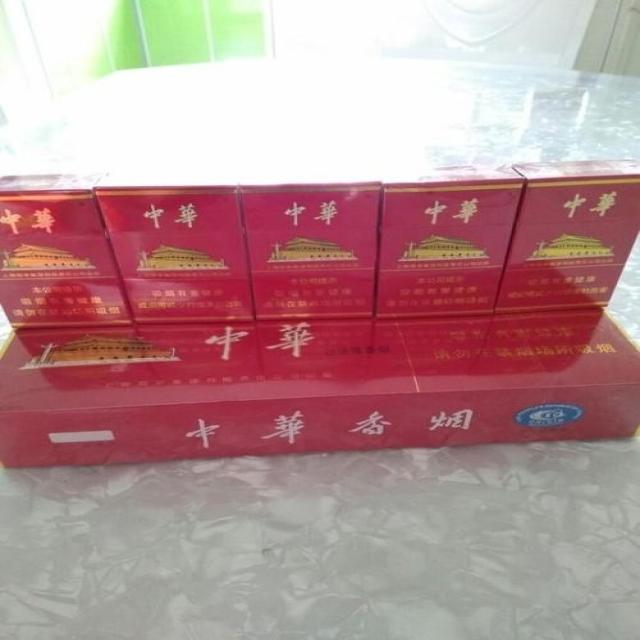box: (0, 310, 640, 469), (376, 164, 525, 318), (494, 159, 640, 316), (96, 186, 255, 325), (0, 174, 134, 329), (238, 180, 381, 321)
